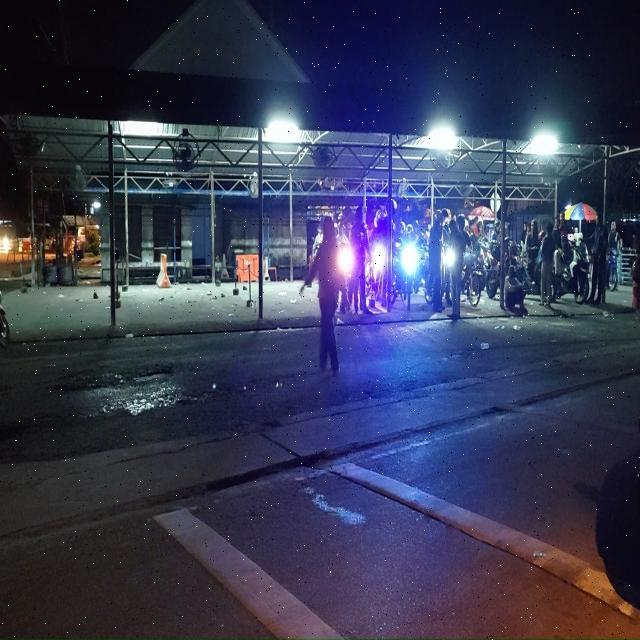Golongan II: (551, 243, 589, 304), (396, 242, 421, 310), (460, 251, 482, 307), (481, 241, 500, 299), (515, 256, 540, 296), (607, 249, 618, 291)
